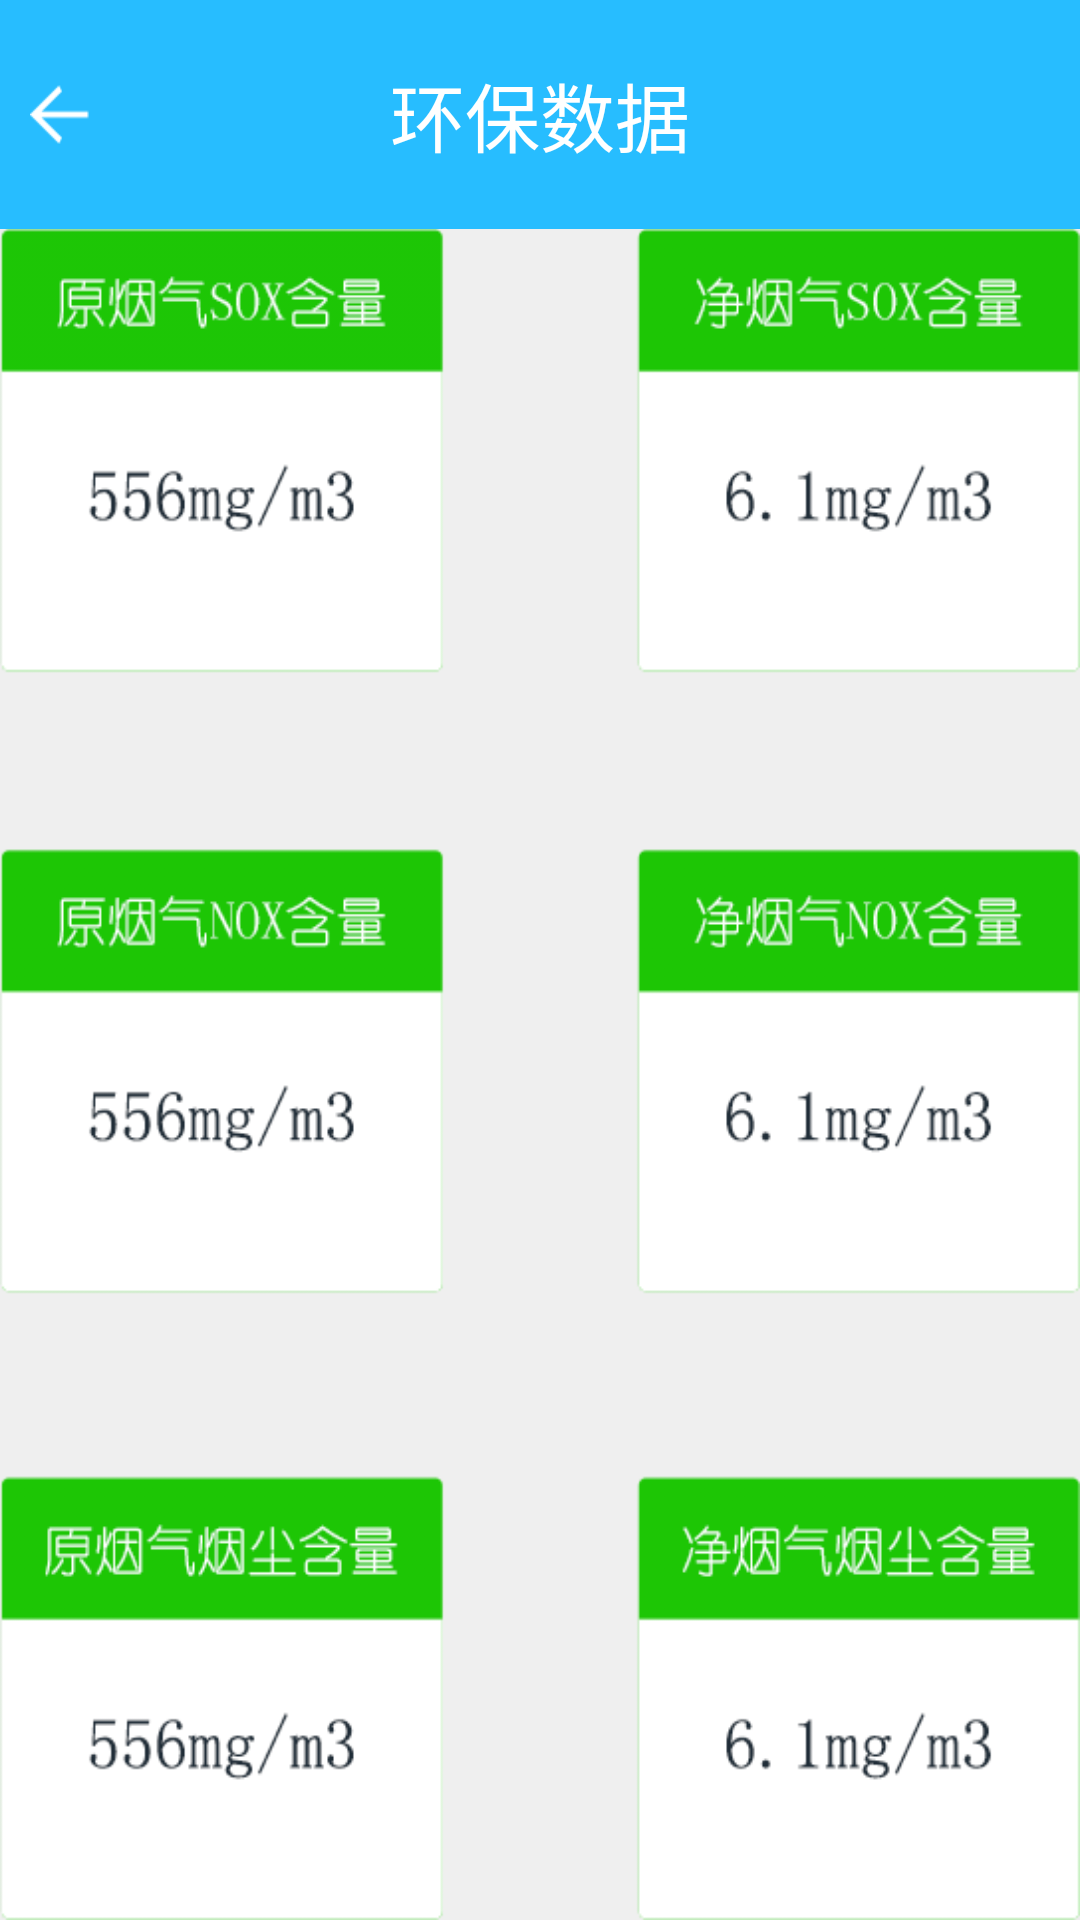

Screen size 1080w x 1920h. Icon name, then its center in pixels as point (x, y):
back: point (59, 114)
